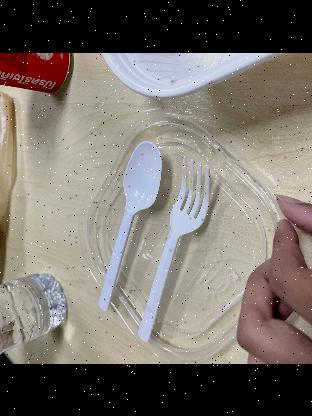Others: (128, 152, 216, 348), (95, 135, 162, 313)
